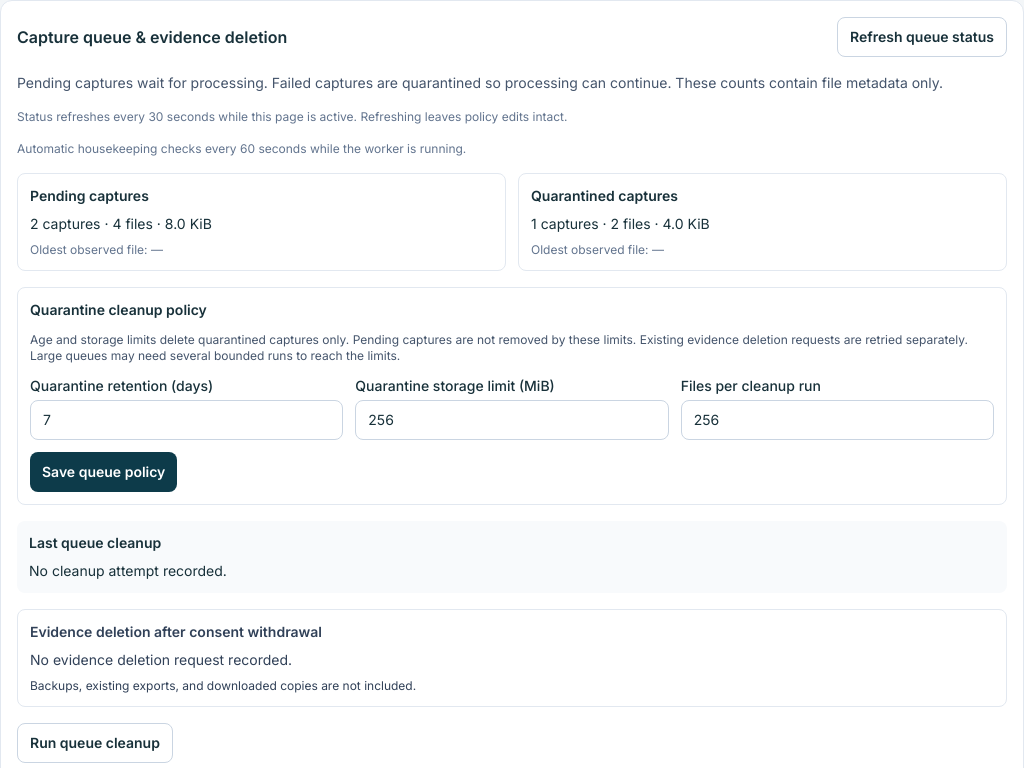
capture queue controls and truthful deletion status › runs cleanup with the saved policy, retains edits, and shows remaining work after a partial attempt
The image size is (1024, 768).
Replace the text in the number field labelled "Quarantine retention (days)" with "14" at x=187, y=420, box left=30, top=400, right=343, bottom=440
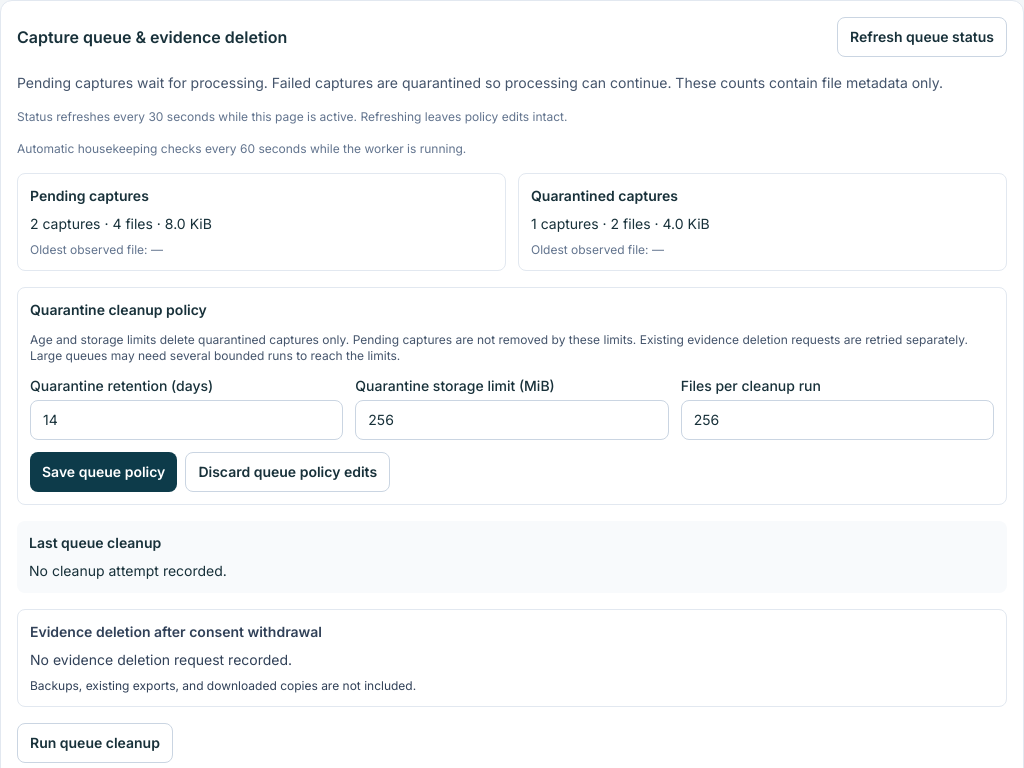
Click the button "Run queue cleanup".
click(95, 743)  # box left=17, top=723, right=173, bottom=763
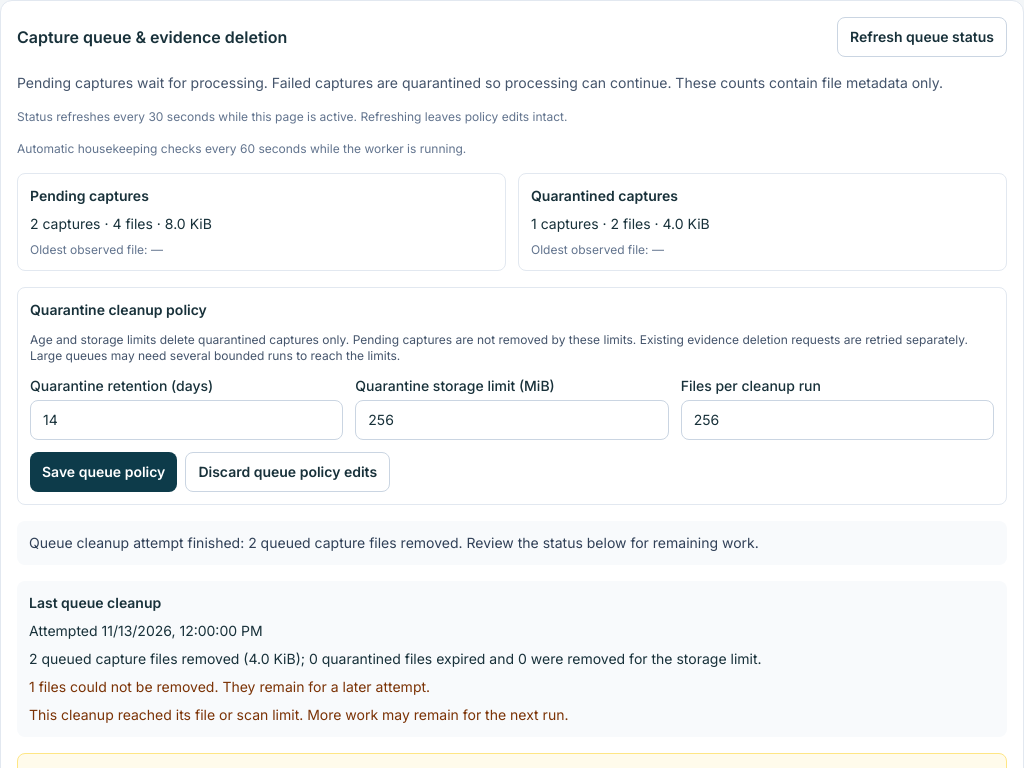
Expected: the text "Queue cleanup attempt finished: 2 queued capture files removed" is shown, left=29, top=534, right=759, bottom=551
Expected: the text "This cleanup reached its file or scan limit" is shown, left=29, top=706, right=568, bottom=723
